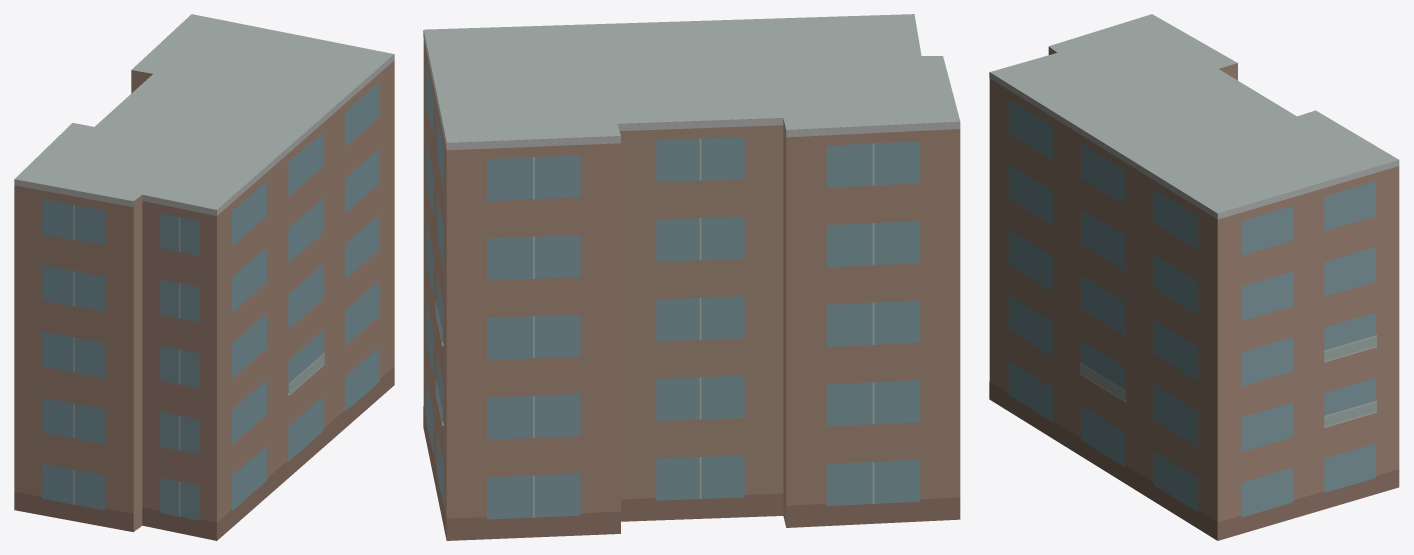
Rendered from survey-upis-32651634.glb.
3 renders of one model, left to right at view 1: azimuth 30°, elevation 25°; view 2: azimuth 150°, elevation 25°; view 3: azimuth 270°, elevation 25°, orthographic. The views are drawn at different scales.
Visible parts, largest first — view 1: survey-upis-32651634.tmp; view 2: survey-upis-32651634.tmp; view 3: survey-upis-32651634.tmp.
Part boxes in pixels (x1,y1,x2,y2): survey-upis-32651634.tmp: (14, 14, 394, 540); survey-upis-32651634.tmp: (423, 14, 960, 540); survey-upis-32651634.tmp: (989, 14, 1399, 540).
Bounding box in the file's own units: 17.26 × 13.2 × 14.98.
